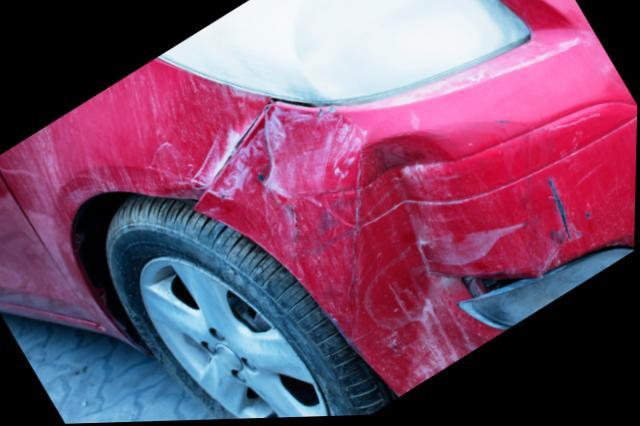crack: (547, 178, 574, 244)
dent: (344, 134, 484, 397)
scratch: (207, 104, 368, 214)
